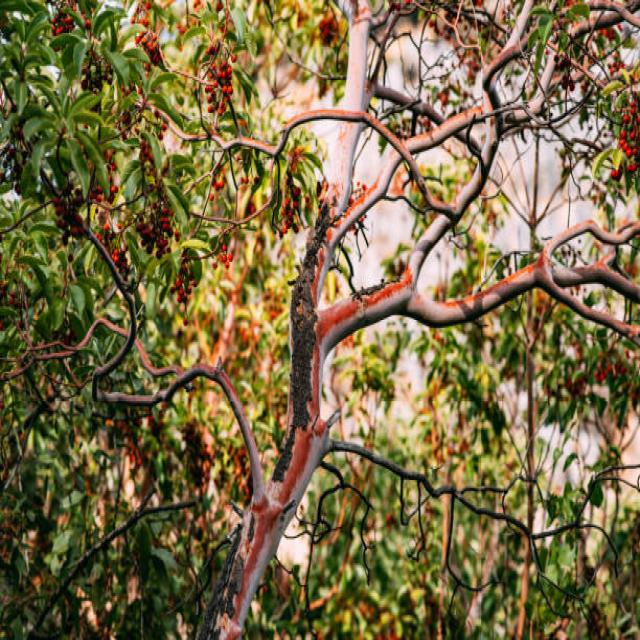Sandalwood: (141, 39, 514, 558), (283, 0, 639, 511), (26, 60, 363, 417)
